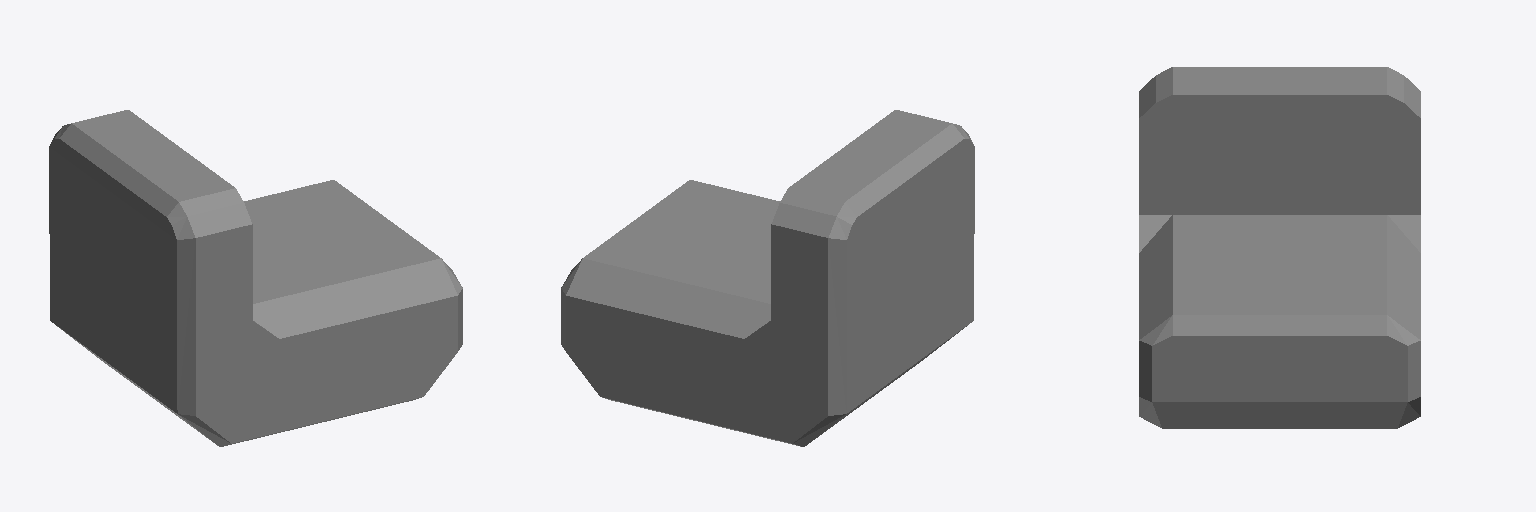
File: mag4.obj
3 renders of one model, left to right at view 1: azimuth 30°, elevation 25°; view 2: azimuth 150°, elevation 25°; view 3: azimuth 270°, elevation 25°, orthographic.
Visible parts, largest first — view 1: mag4; view 2: mag4; view 3: mag4.
Part boxes in pixels (left/top/right/bottom): mag4: left=49, top=110, right=462, bottom=446; mag4: left=561, top=110, right=974, bottom=446; mag4: left=1139, top=67, right=1420, bottom=428.
Bounding box in the file's own units: 12.75 × 10.68 × 10.88.